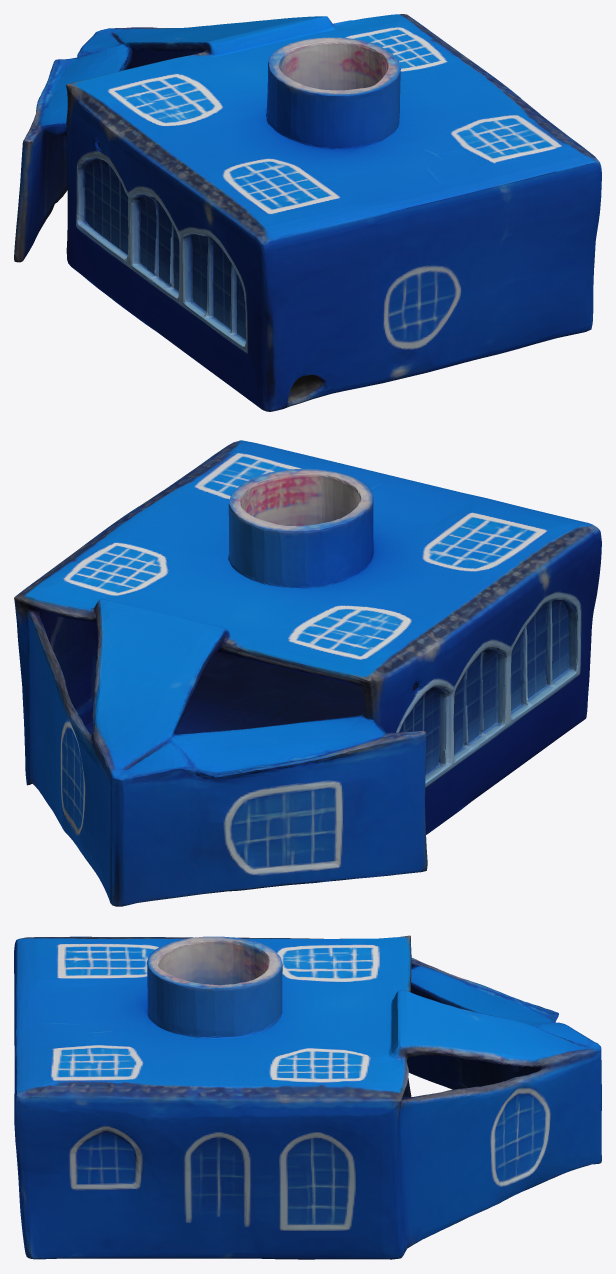
The model's file is modelfour.glb.
3 renders of one model, top to bottom at view 1: azimuth 30°, elevation 25°; view 2: azimuth 150°, elevation 25°; view 3: azimuth 270°, elevation 25°, orthographic. The views are drawn at different scales.
Parts seen in each view (by area): view 1: world; view 2: world; view 3: world.
Part boxes in pixels (x1,y1,x2,y2): world: (14,14,601,411); world: (14,440,601,906); world: (14,935,601,1259).
Bounding box in the file's own units: 0.7334 × 0.4193 × 0.996.
Materials: 1 (1 with a texture image).
